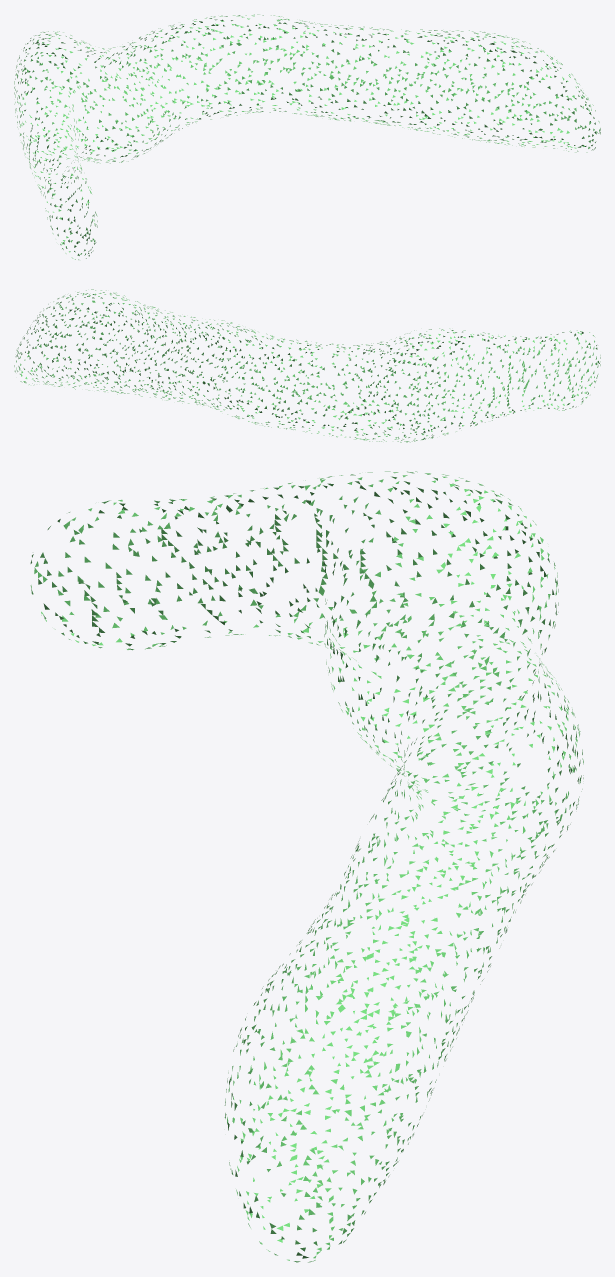
The model's file is morph_018.glb.
3 renders of one model, top to bottom at view 1: azimuth 30°, elevation 25°; view 2: azimuth 150°, elevation 25°; view 3: azimuth 270°, elevation 25°, orthographic. The views are drawn at different scales.
Size of the model in its own units: 128 by 42.34 by 59.03.
